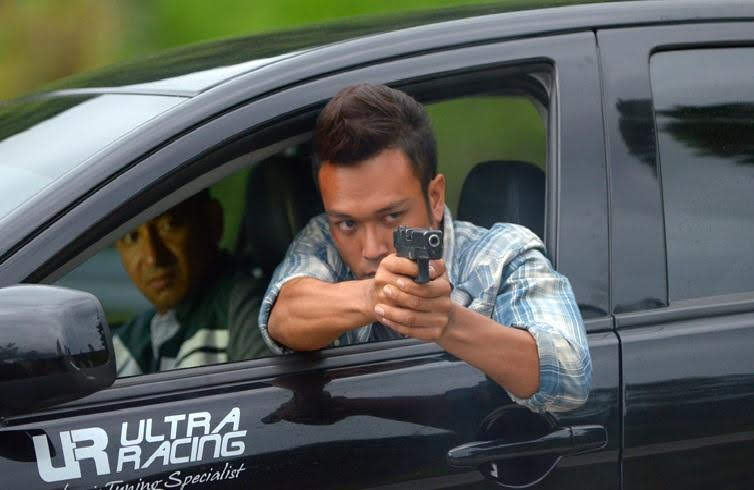gun: (382, 217, 456, 300)
